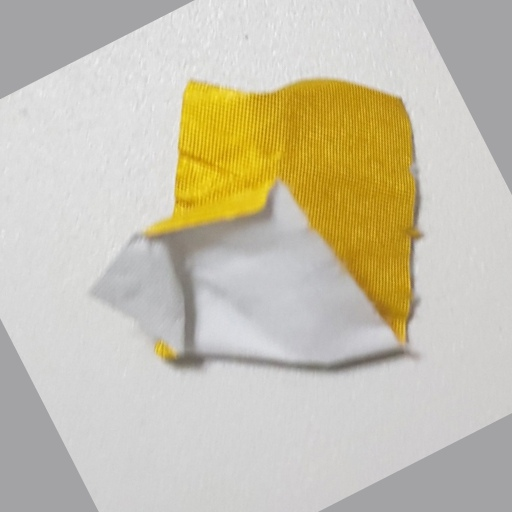Paper_3: (87, 77, 434, 376)
